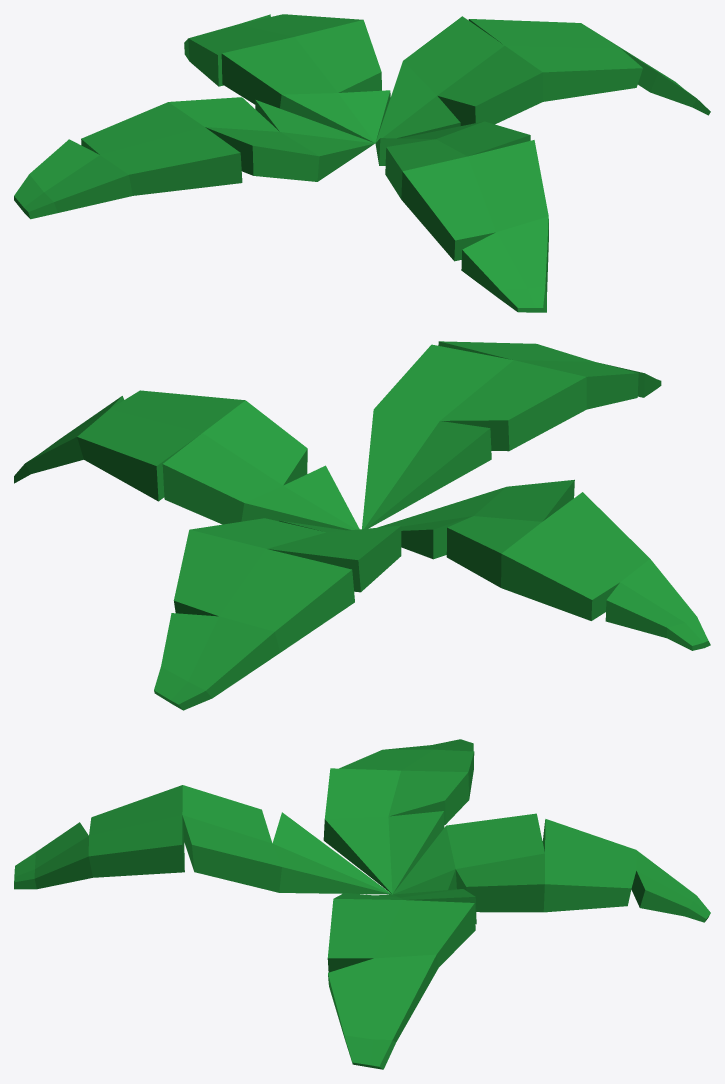
The model's file is Shrub1.fbx.
3 renders of one model, top to bottom at view 1: azimuth 30°, elevation 25°; view 2: azimuth 150°, elevation 25°; view 3: azimuth 270°, elevation 25°, orthographic. The views are drawn at different scales.
Visible parts, largest first — view 1: Plant; view 2: Plant; view 3: Plant.
Part boxes in pixels (box(x1,y1,x2,y2)): Plant: box(14, 14, 710, 312); Plant: box(14, 341, 710, 710); Plant: box(14, 739, 710, 1069).
Bounding box in the file's own units: 554 × 92.93 × 562.
